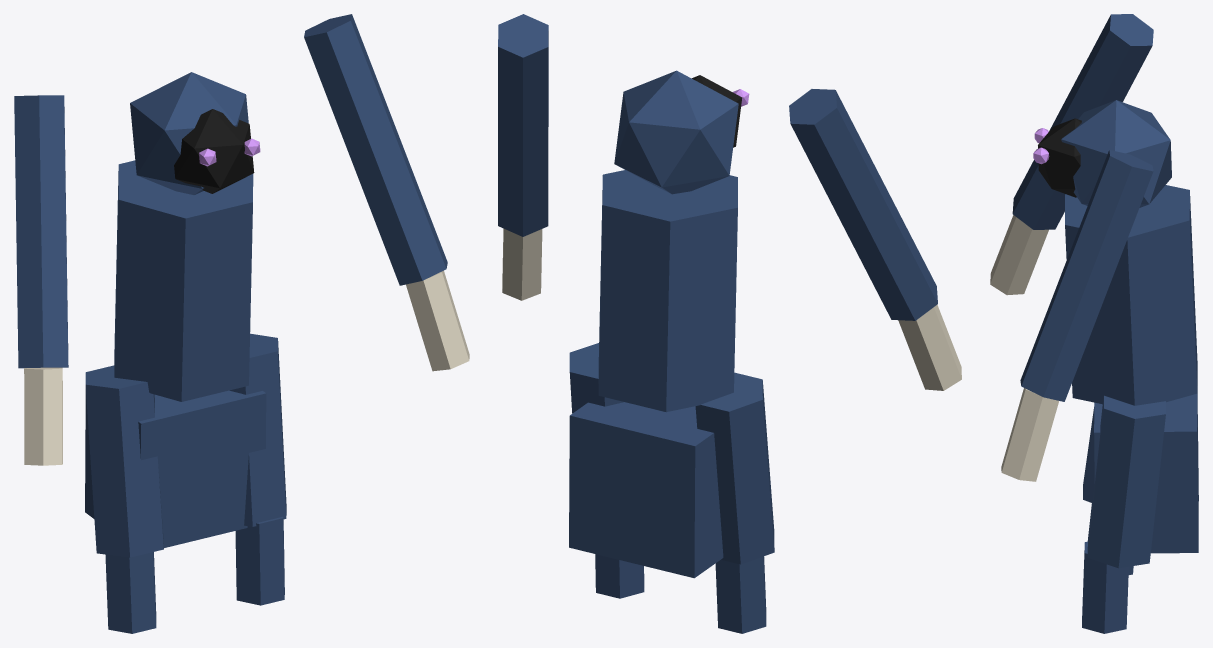
The model's file is npcpose_wraith_idle_05.glb.
3 views of the same model, side by side, from view 1: azimuth 30°, elevation 25°; view 2: azimuth 150°, elevation 25°; view 3: azimuth 270°, elevation 25° (orthographic). The views are drawn at different scales.
Visible parts, largest first — view 1: npcpose; view 2: npcpose; view 3: npcpose.
Boxes of the visible parts, x1=… form: npcpose: x1=14, y1=14, x2=469, y2=633; npcpose: x1=498, y1=14, x2=961, y2=633; npcpose: x1=990, y1=14, x2=1198, y2=633.
Size of the model in its own units: 0.9388 by 1.1 by 0.4052.
